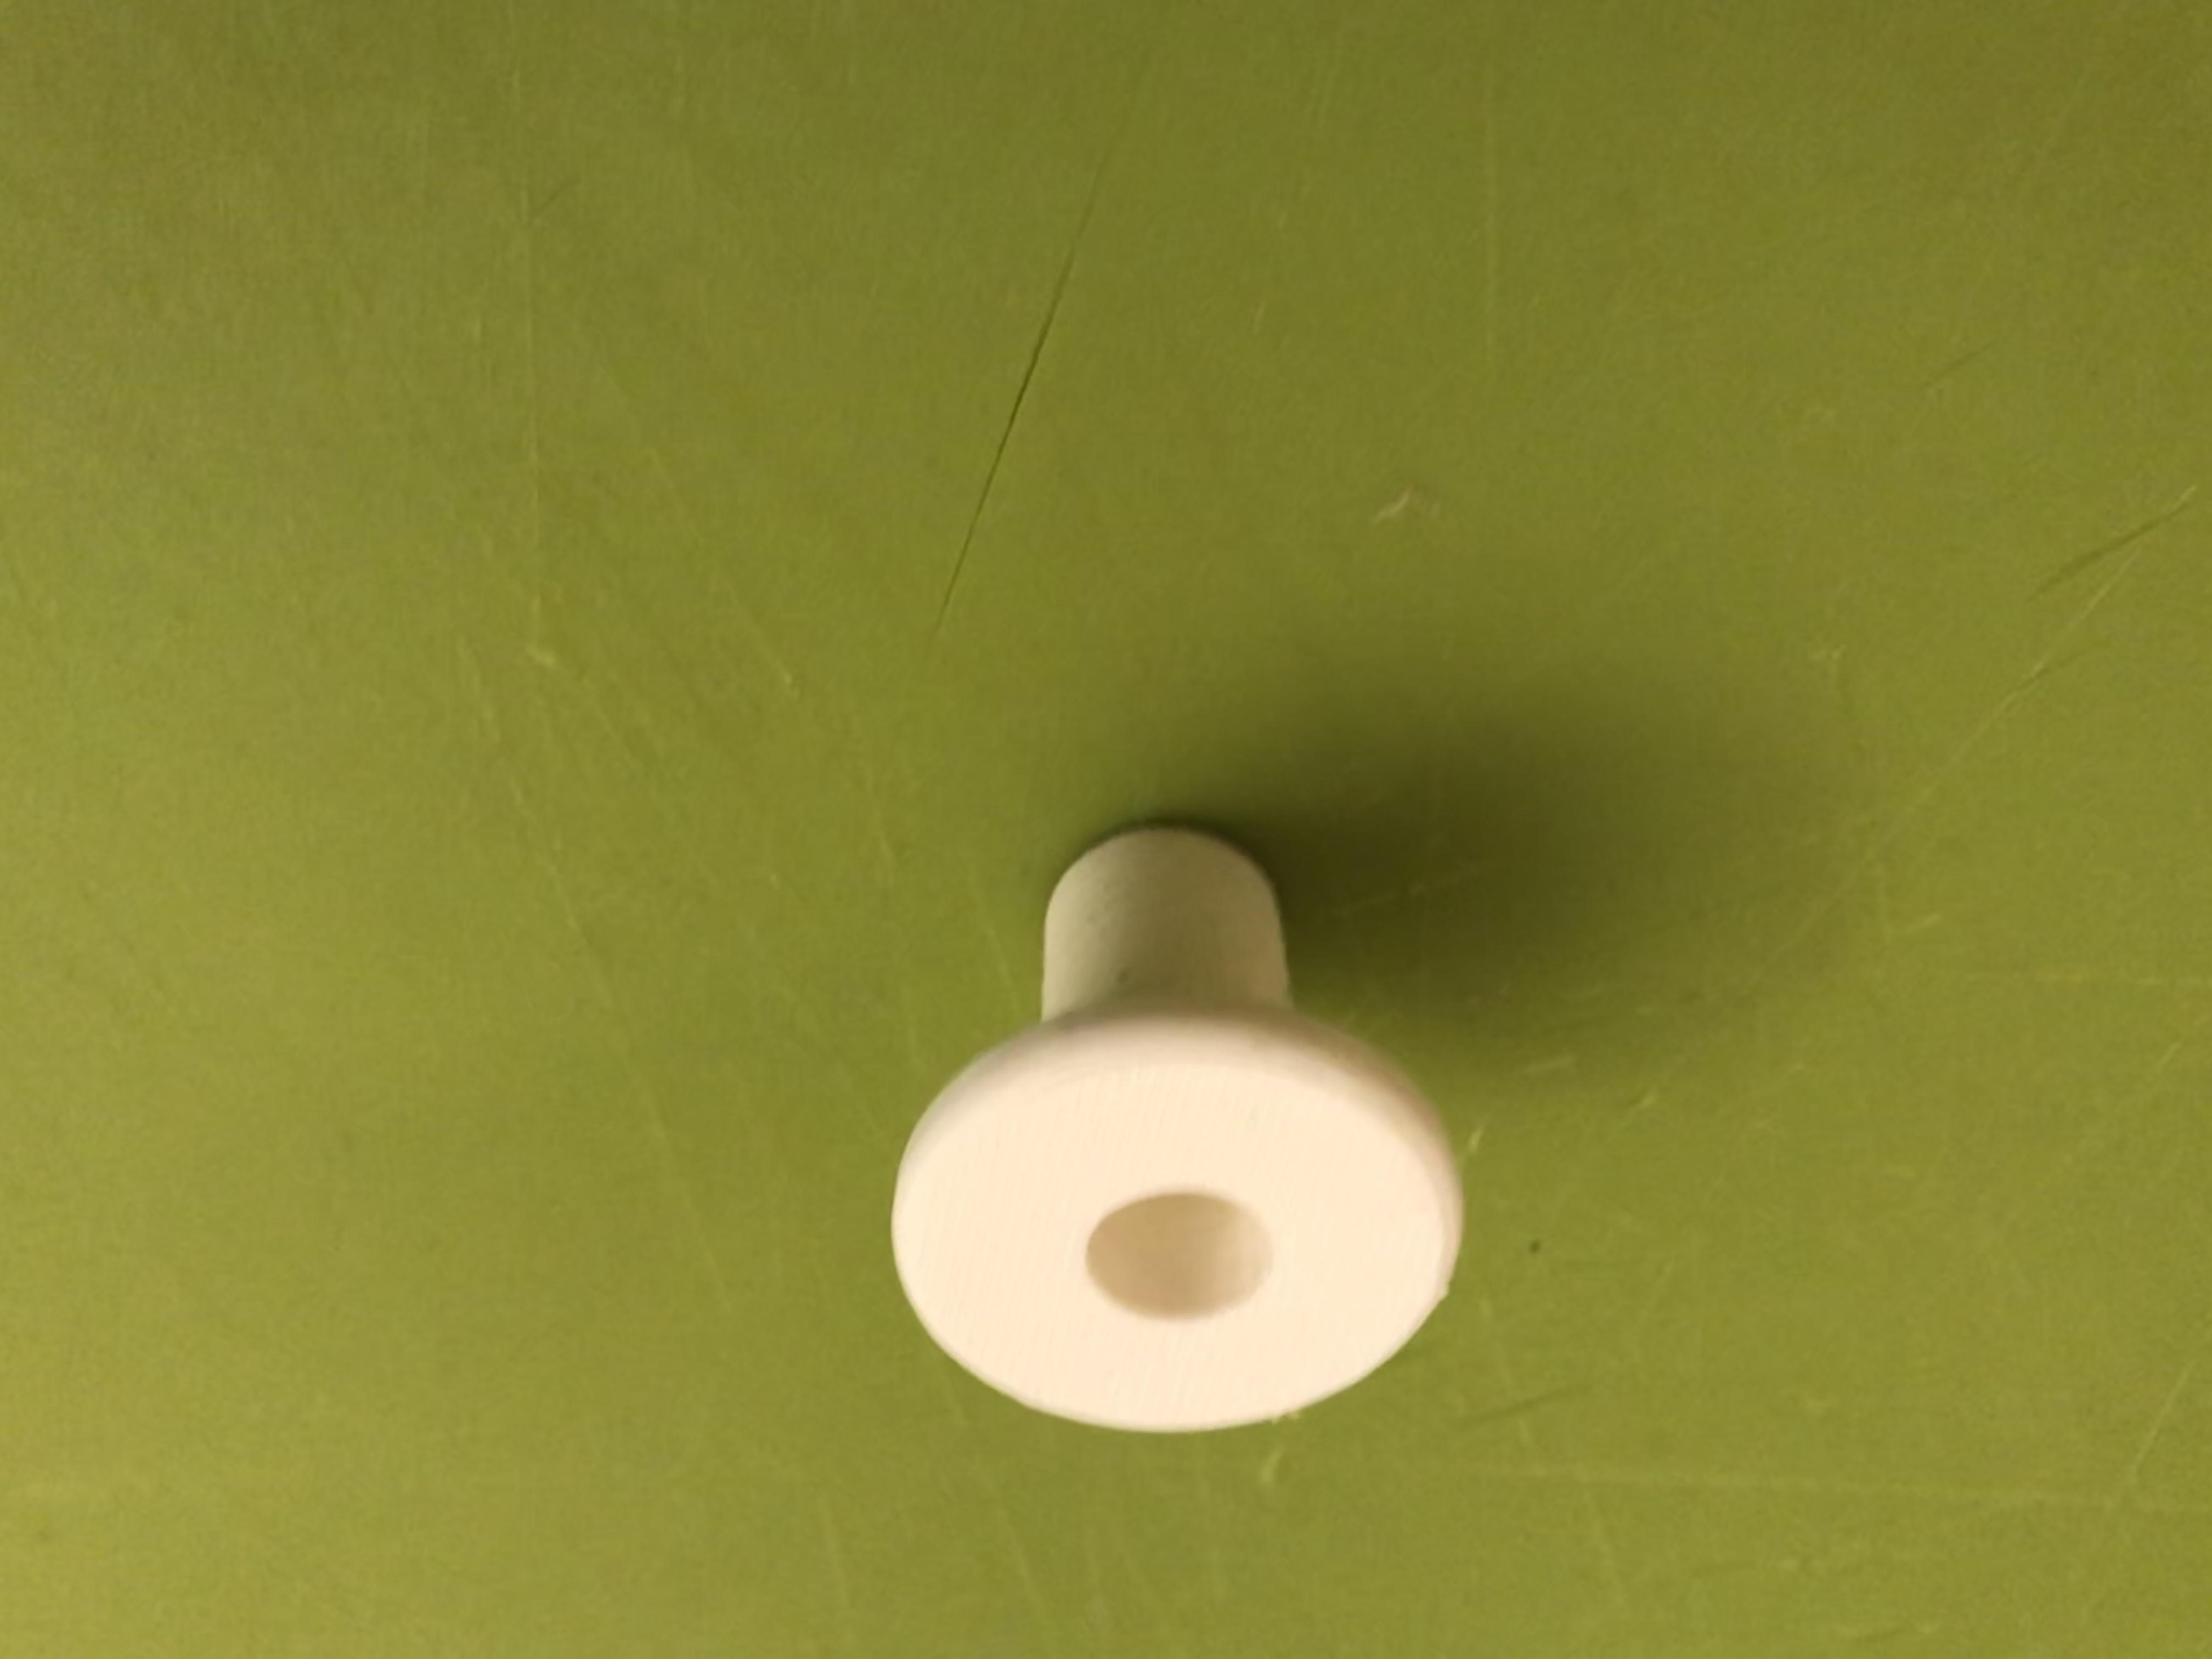White Cone: (873, 812, 1489, 1439)
